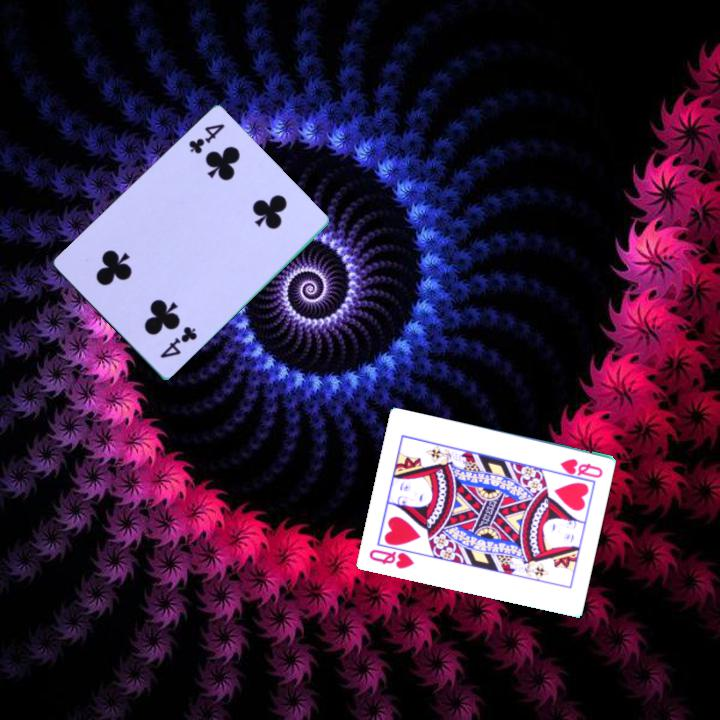4c: (156, 323, 200, 362), (185, 121, 228, 158)
Qh: (365, 546, 417, 572), (556, 455, 605, 481)
